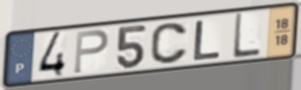4: (36, 29, 69, 79)
5: (116, 24, 149, 71)
C: (149, 21, 190, 66)
L: (231, 12, 262, 61), (191, 19, 223, 62)
P: (72, 28, 110, 76)
